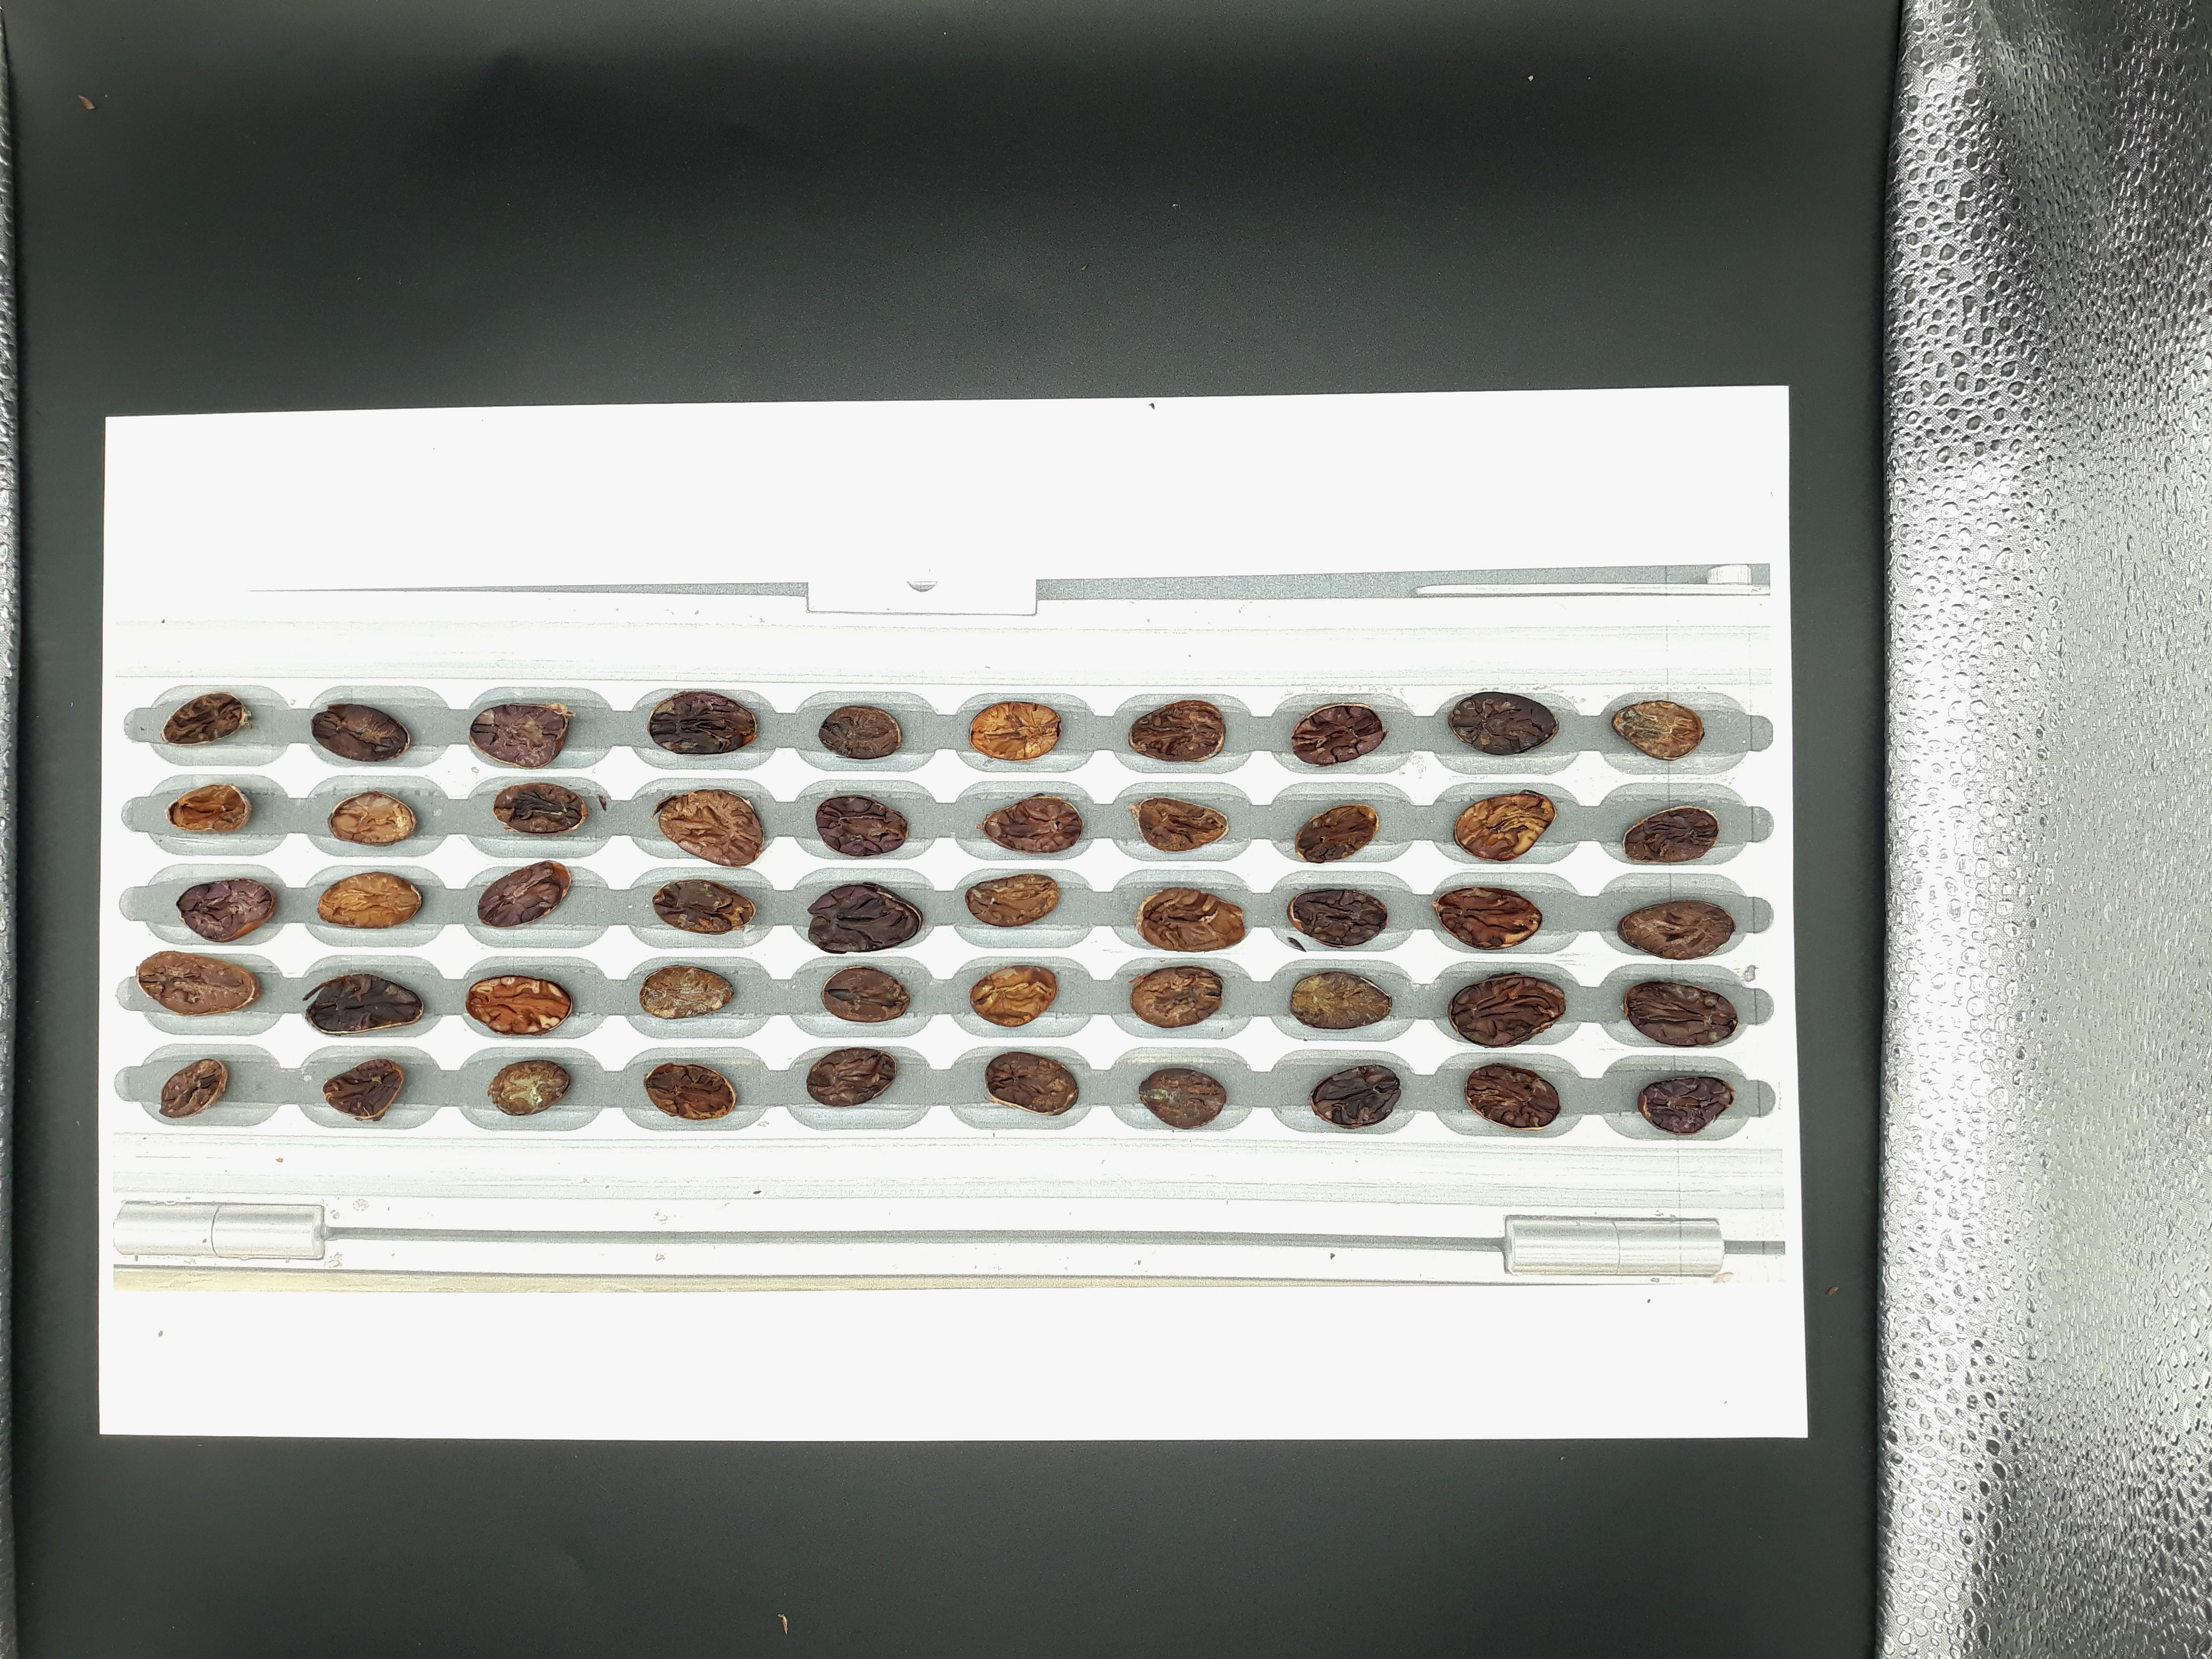Brown - G1: (1827, 481, 1897, 523), (1824, 436, 1883, 474), (1345, 481, 1402, 516), (1195, 387, 1244, 418)
Brown - G2: (1832, 385, 1893, 432), (1437, 390, 1500, 432), (1599, 390, 1658, 430), (1594, 474, 1646, 519), (1669, 345, 1730, 383), (1676, 439, 1737, 474), (1836, 528, 1892, 565), (1432, 523, 1486, 559), (1754, 394, 1804, 432), (1672, 394, 1731, 425)
Brown - G3: (1179, 467, 1249, 509), (1916, 444, 1980, 479), (1592, 342, 1646, 382), (1270, 430, 1329, 465), (1601, 519, 1655, 556), (1670, 479, 1726, 514), (1588, 432, 1644, 465), (1191, 521, 1235, 559), (1521, 479, 1569, 511), (1277, 392, 1324, 422)
Insect-damaged: (1749, 481, 1813, 518)
Mouldy: (1909, 340, 1966, 383), (1676, 526, 1728, 563), (1430, 479, 1484, 511), (1355, 523, 1402, 558), (1519, 347, 1566, 380)
Partly Purple - G1: (1512, 436, 1578, 477), (1749, 343, 1810, 385)
Partly Purple - G2: (1263, 479, 1332, 518), (1918, 481, 1980, 523), (1433, 338, 1498, 376), (1749, 437, 1808, 472), (1515, 392, 1571, 429), (1357, 387, 1411, 416)
Partly Purple - G3: (1350, 425, 1404, 465)
Total Purple - G2: (1925, 532, 1982, 568)
Total Purple - G3: (1346, 347, 1406, 385), (1202, 434, 1256, 471)
Very Dark Brown - G1: (1191, 342, 1244, 375)
Very Dark Brown - G2: (1761, 525, 1818, 566), (1916, 396, 1973, 436), (1512, 516, 1564, 551), (1273, 521, 1318, 559)
Very Dark Brown - G3: (1829, 338, 1892, 380), (1266, 345, 1324, 382), (1435, 436, 1494, 467)
